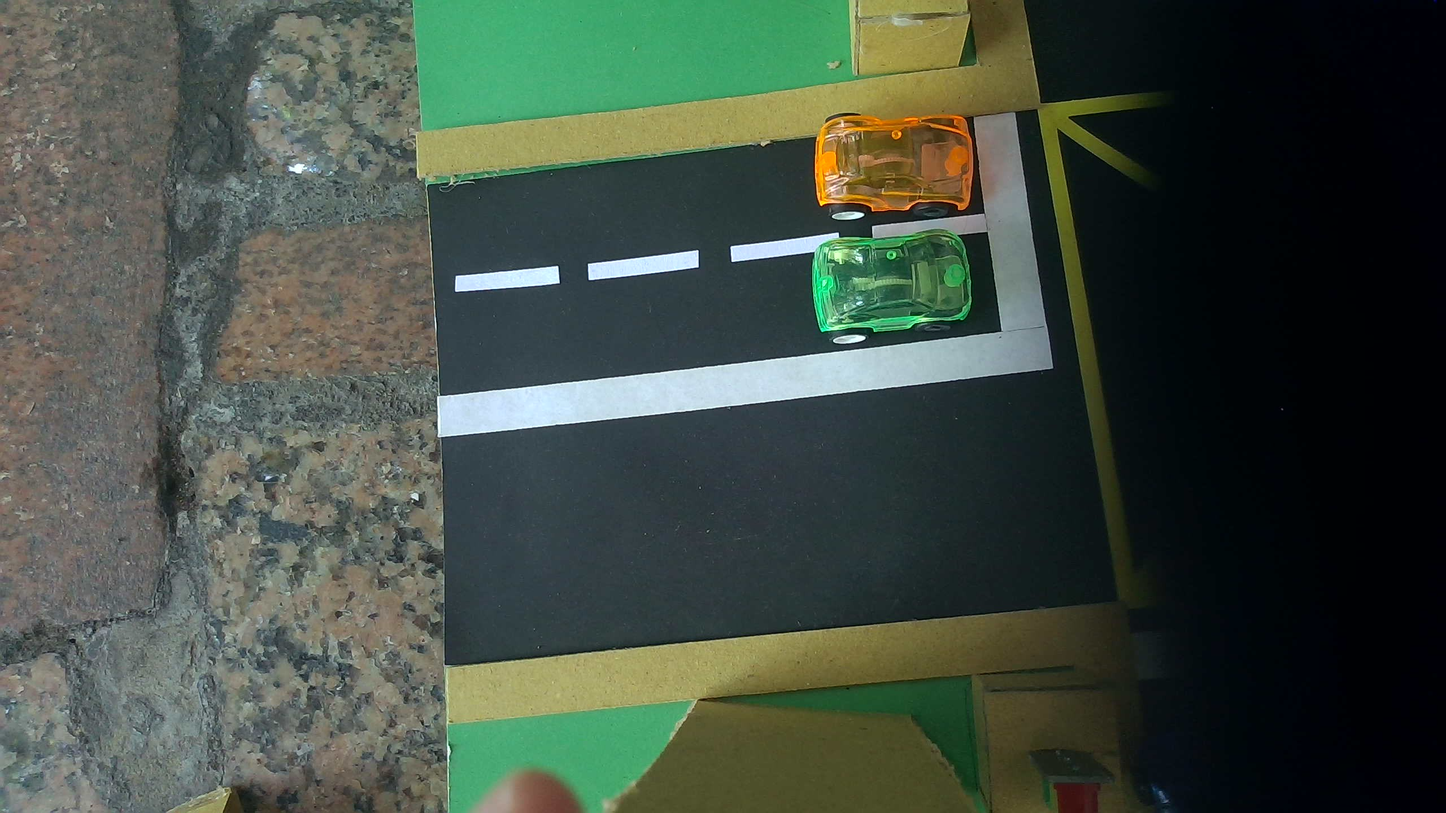Mobil hijau: (811, 229, 972, 344)
Mobil orange: (814, 113, 975, 219)
